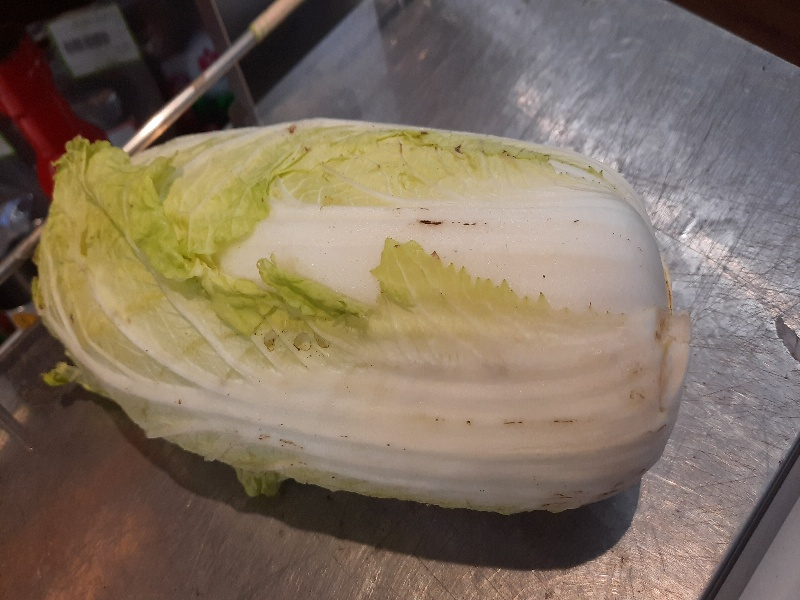vege: (28, 107, 701, 524)
